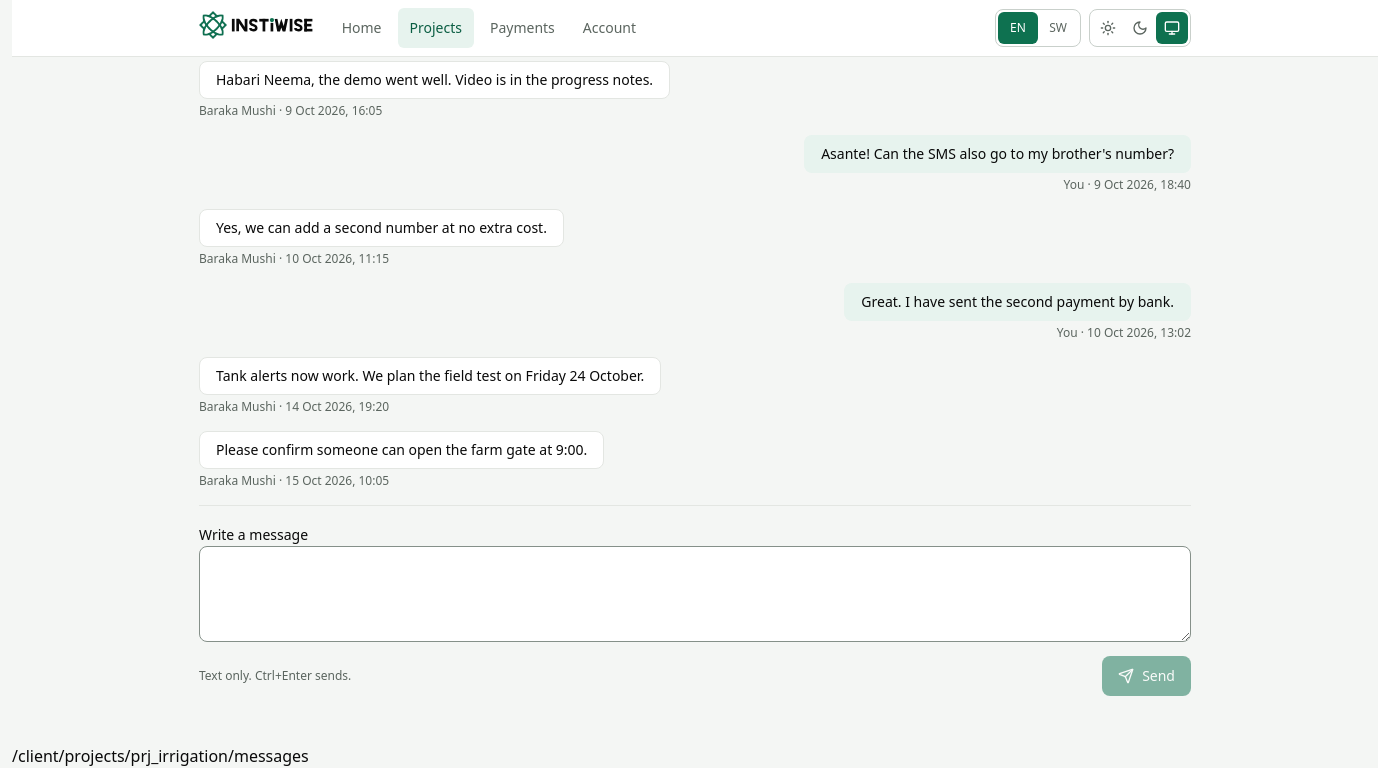
project detail › shows the conversation, clears unread and sends a message
(page scrolled)
In the text box labelled "Write a message": (695, 594) [199,546,1191,642], type "Yes, my brother will be there."
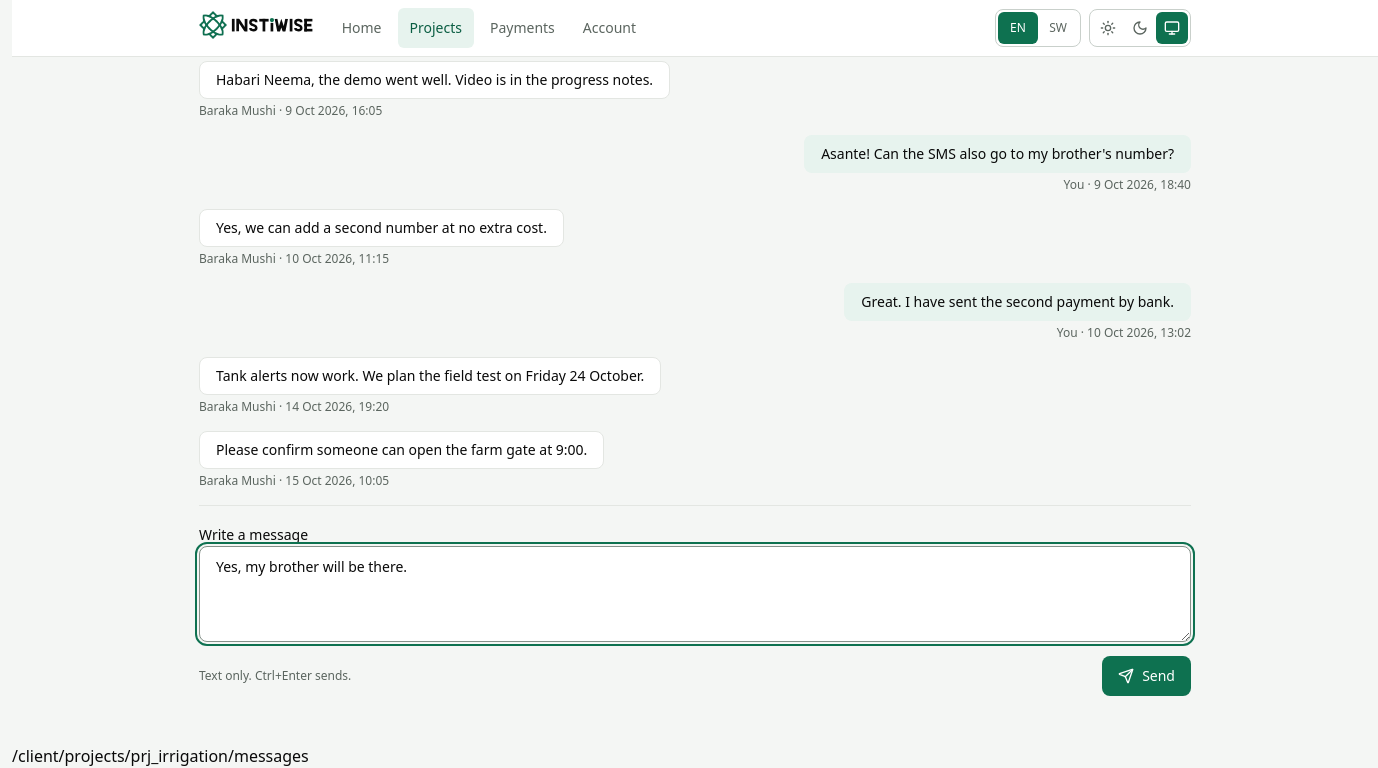
Click the button "Send": (1147, 676) [1102,656,1191,696]
(page scrolled)
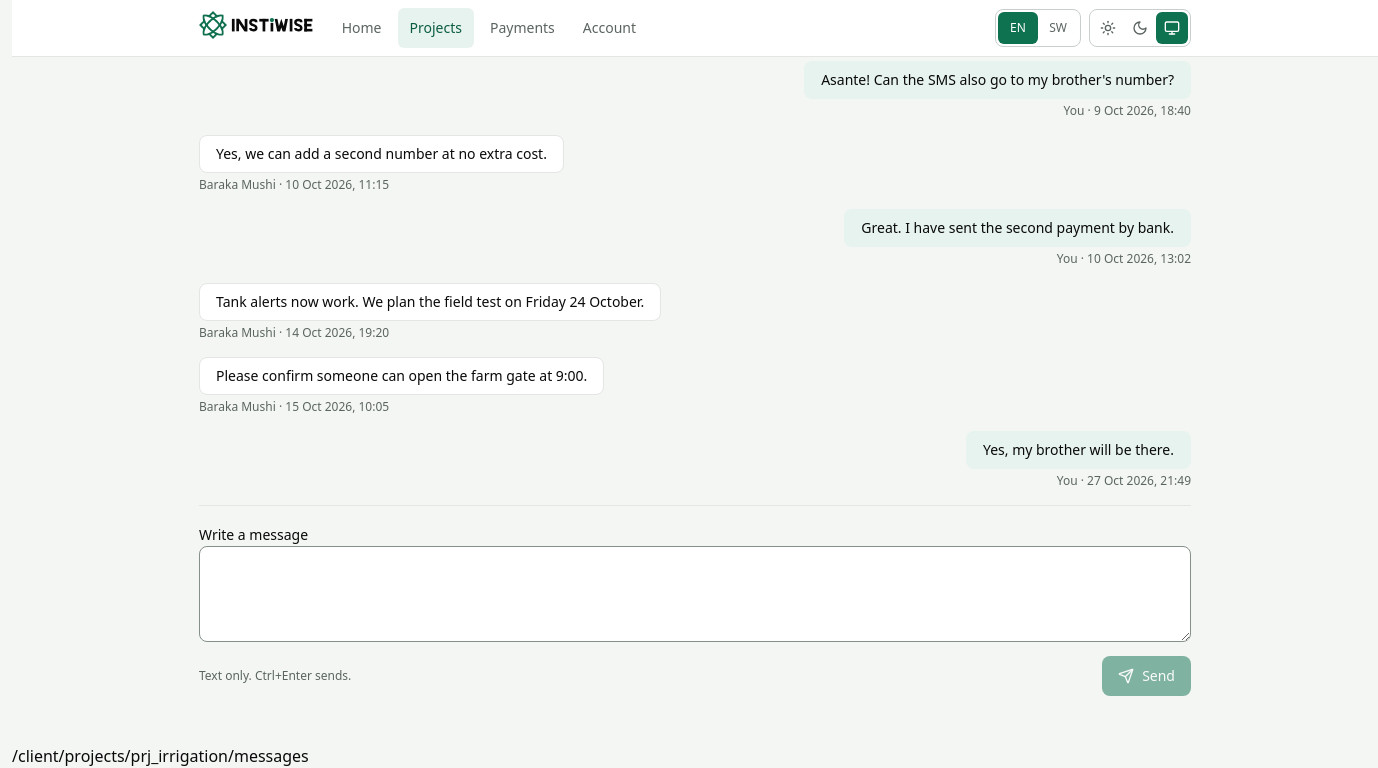
Expected: the text "Yes, my brother will be there." is shown, [966,431,1191,469]
Expected: the text box labelled "Write a message" is empty, [199,546,1191,642]
